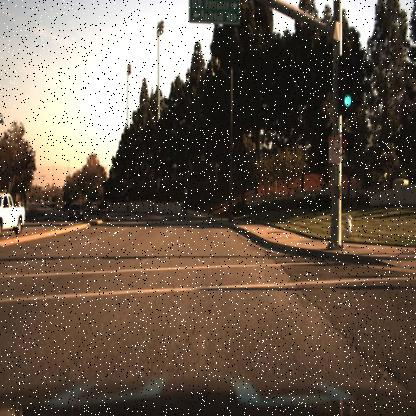car: (0, 193, 28, 233), (70, 203, 87, 223), (88, 199, 101, 215)
